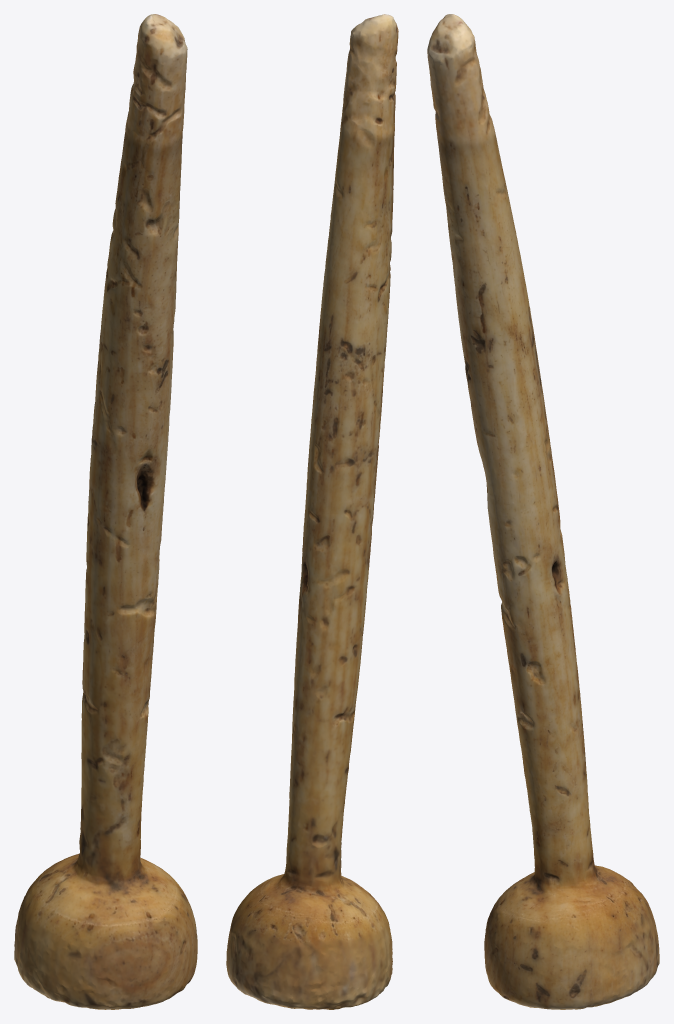
Rendered from 05_Nadel.glb.
3 views of the same model, side by side, from view 1: azimuth 30°, elevation 25°; view 2: azimuth 150°, elevation 25°; view 3: azimuth 270°, elevation 25° (orthographic). The views are drawn at different scales.
Size of the model in its own units: 0.014 by 0.0866 by 0.019.
1 material, 1 textured.
